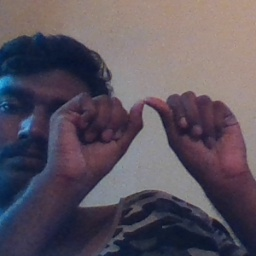A: (78, 87, 230, 182)
